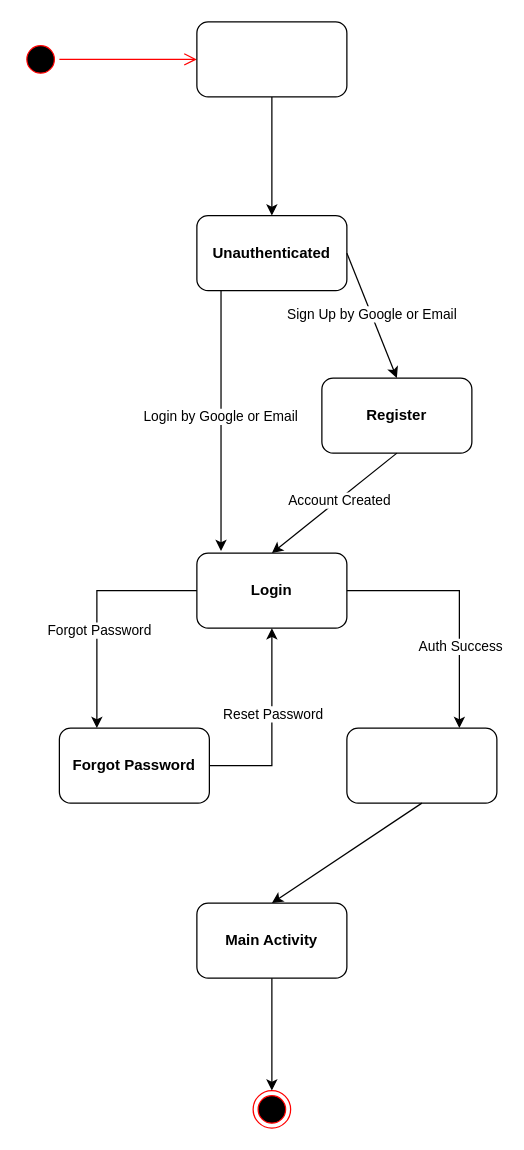
The diagram is 524 pixels wide and 1150 high, and some of its shapes have lost their labels. Each missing label, with the box of its shape:
Authenticated: (346, 727, 497, 803)
Home: (196, 21, 347, 97)
